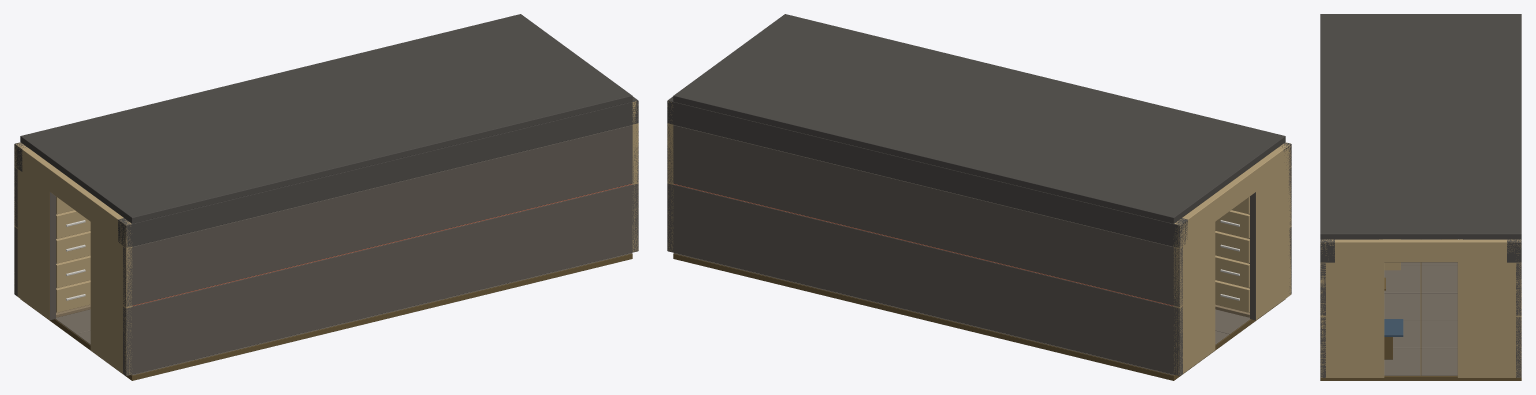
Rendered from racks.glb.
The picture shows the model from 3 angles, left to right: view 1: azimuth 30°, elevation 25°; view 2: azimuth 150°, elevation 25°; view 3: azimuth 270°, elevation 25°; orthographic projection. The views are drawn at different scales.
Visible parts, largest first — view 1: RACKS; view 2: RACKS; view 3: RACKS.
Boxes of the visible parts, bbox=[...] form: RACKS: bbox=[14, 14, 638, 380]; RACKS: bbox=[667, 14, 1291, 380]; RACKS: bbox=[1320, 14, 1521, 380].
Size of the model in its own units: 8.6 by 2.62 by 3.25.
